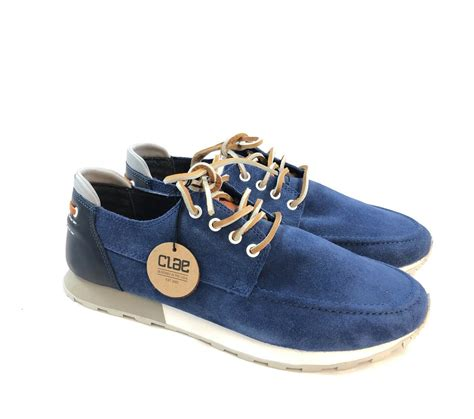gamuza: (101, 156, 431, 353)
